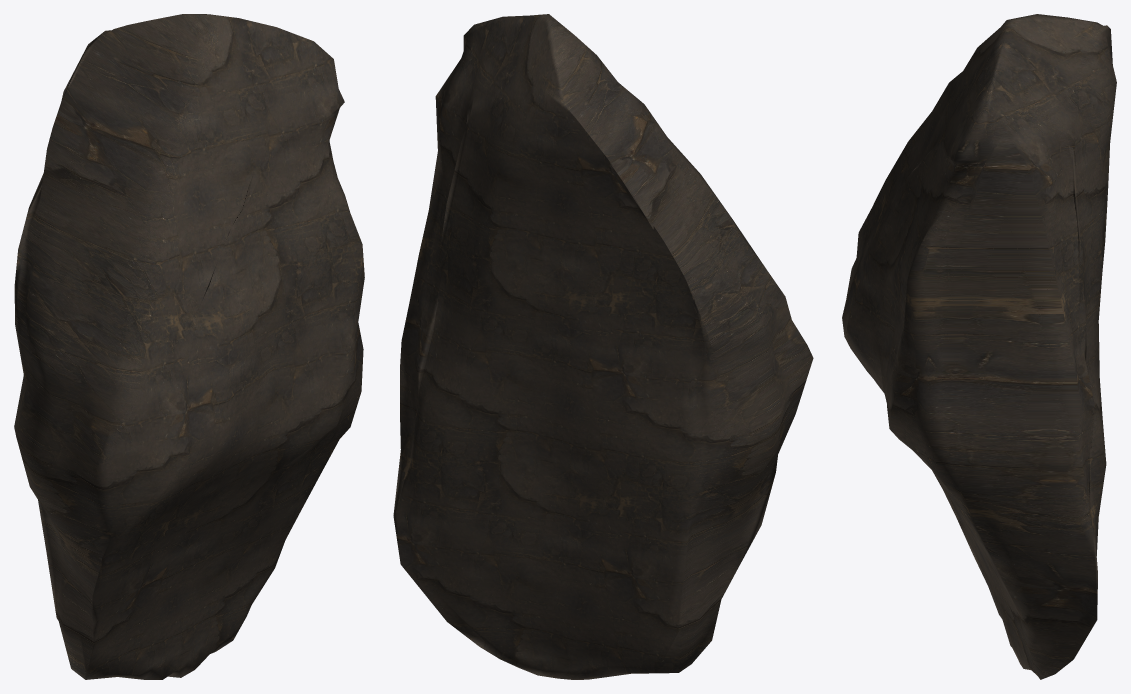
The model's file is cliff_buttress_a_lod1.gltf.
3 renders of one model, left to right at view 1: azimuth 30°, elevation 25°; view 2: azimuth 150°, elevation 25°; view 3: azimuth 270°, elevation 25°, orthographic.
Parts seen in each view (by area): view 1: cliff_buttress_a_LOD1; view 2: cliff_buttress_a_LOD1; view 3: cliff_buttress_a_LOD1.
Part boxes in pixels (x1,y1,x2,y2): cliff_buttress_a_LOD1: [14, 14, 364, 679]; cliff_buttress_a_LOD1: [393, 14, 813, 679]; cliff_buttress_a_LOD1: [842, 14, 1116, 679].
Size of the model in its own units: 13.45 by 26 by 9.82.
1 material, 1 textured.
